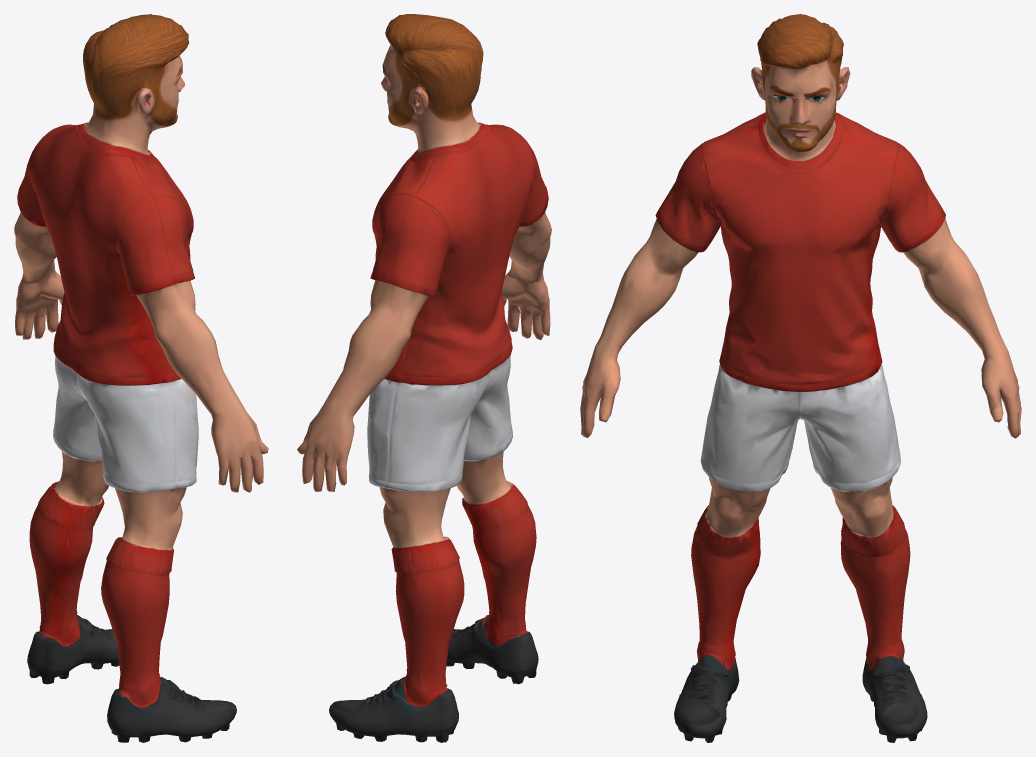
File: gen.glb
3 views of the same model, side by side, from view 1: azimuth 30°, elevation 25°; view 2: azimuth 150°, elevation 25°; view 3: azimuth 270°, elevation 25° (orthographic). The views are drawn at different scales.
Parts seen in each view (by area): view 1: tripo_node_149ef799-cf90-4f4d-9746-4dc6bb34f784; view 2: tripo_node_149ef799-cf90-4f4d-9746-4dc6bb34f784; view 3: tripo_node_149ef799-cf90-4f4d-9746-4dc6bb34f784.
Boxes of the visible parts, x1,y1,x2,y2 form: tripo_node_149ef799-cf90-4f4d-9746-4dc6bb34f784: [14, 14, 268, 742]; tripo_node_149ef799-cf90-4f4d-9746-4dc6bb34f784: [297, 14, 551, 742]; tripo_node_149ef799-cf90-4f4d-9746-4dc6bb34f784: [580, 14, 1021, 742].
Bounding box in the file's own units: 0.1818 × 0.9795 × 0.5586.
Materials: 1 (1 with a texture image).
